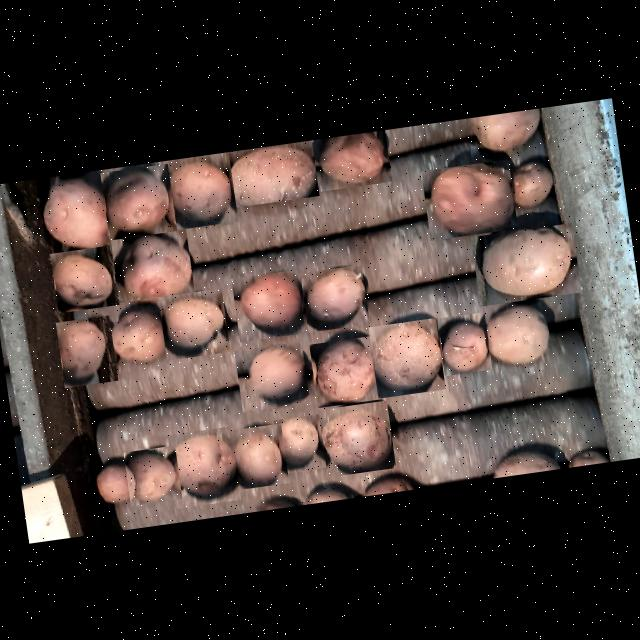Defected potato: (436, 311, 492, 375)
Diseased-fungal potato: (470, 222, 580, 306), (420, 158, 517, 240), (34, 168, 121, 255), (220, 140, 318, 208), (109, 224, 194, 302), (162, 426, 240, 508), (316, 399, 396, 476), (368, 317, 444, 398), (98, 162, 176, 240), (162, 151, 238, 230), (480, 296, 554, 371), (230, 268, 304, 342), (233, 341, 310, 412), (308, 335, 381, 407), (158, 288, 230, 360), (102, 298, 170, 373), (310, 129, 392, 191), (299, 264, 369, 332), (54, 314, 118, 388), (49, 245, 119, 312), (226, 422, 288, 490), (122, 444, 182, 506), (272, 413, 326, 473), (84, 454, 137, 510)
